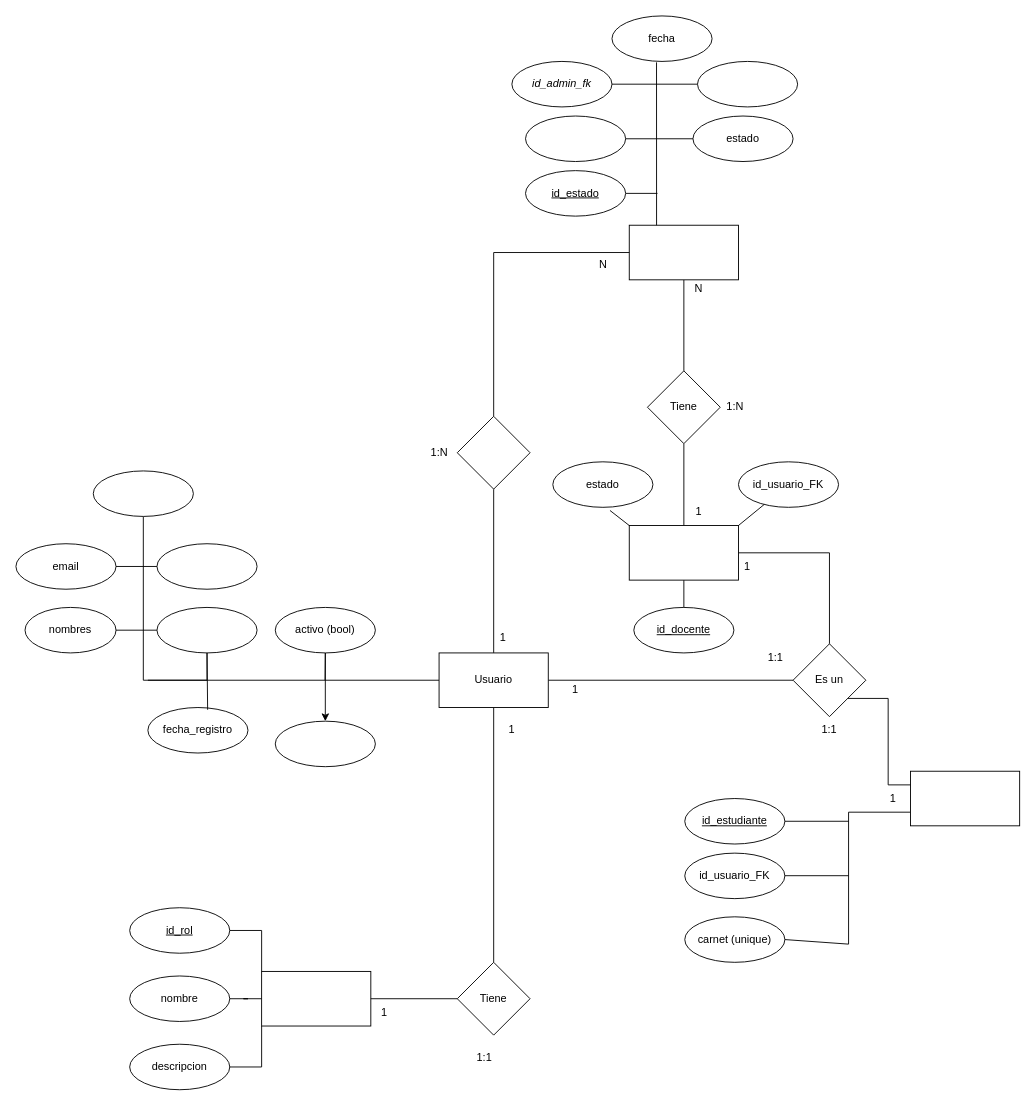
Some shapes in this 1036 by 1106 pixel diagram are drawn without their labels. Here are the shapes that lost their labels. From the top down, the centre of each, then its label:
the point at 747,84: comentario
the point at 575,138: id_docente_fk
the point at 683,252: Estado_Cuenta
the point at 493,452: Gestiona
the point at 142,493: id_usuario
the point at 206,566: password_hash
the point at 683,552: Docente
the point at 206,630: apellidos
the point at 324,743: id_rol_FK
the point at 965,798: Estudiante
the point at 316,998: Rol
